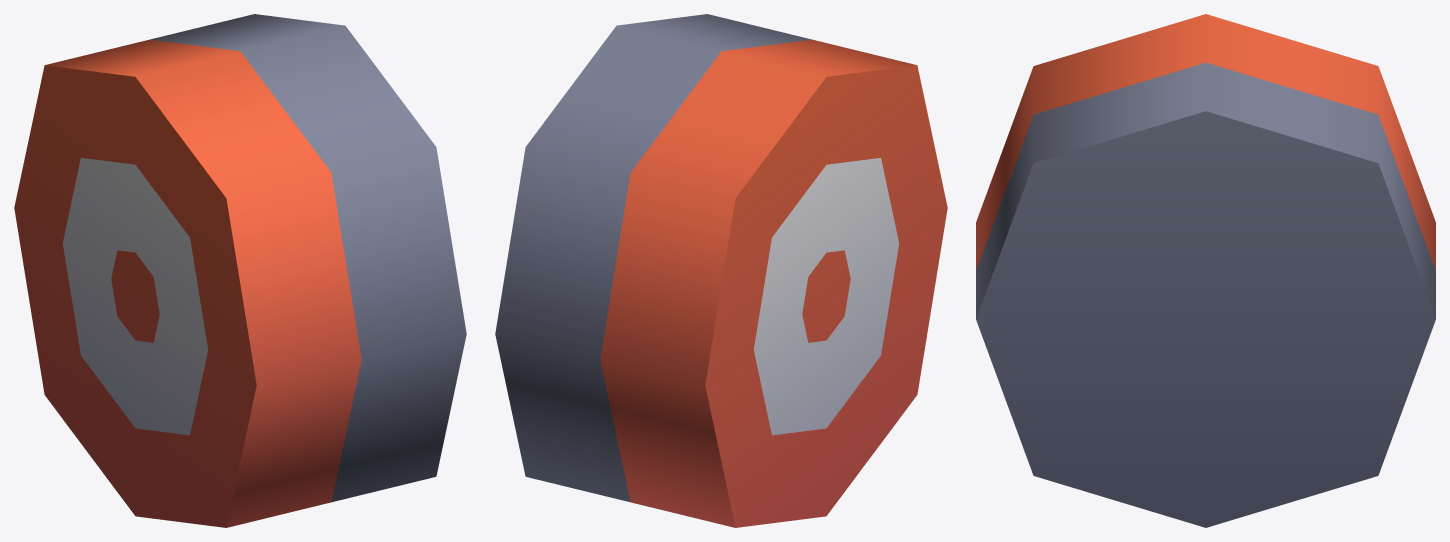
Rendered from target-small.glb.
3 views of the same model, side by side, from view 1: azimuth 30°, elevation 25°; view 2: azimuth 150°, elevation 25°; view 3: azimuth 270°, elevation 25° (orthographic). The views are drawn at different scales.
Parts seen in each view (by area): view 1: target-small; view 2: target-small; view 3: target-small.
Part boxes in pixels (bbox=[...]): target-small: bbox=[14, 14, 466, 527]; target-small: bbox=[495, 14, 947, 527]; target-small: bbox=[976, 14, 1435, 527].
Size of the model in its own units: 0.1 by 0.2 by 0.2.
1 material, 1 textured.
